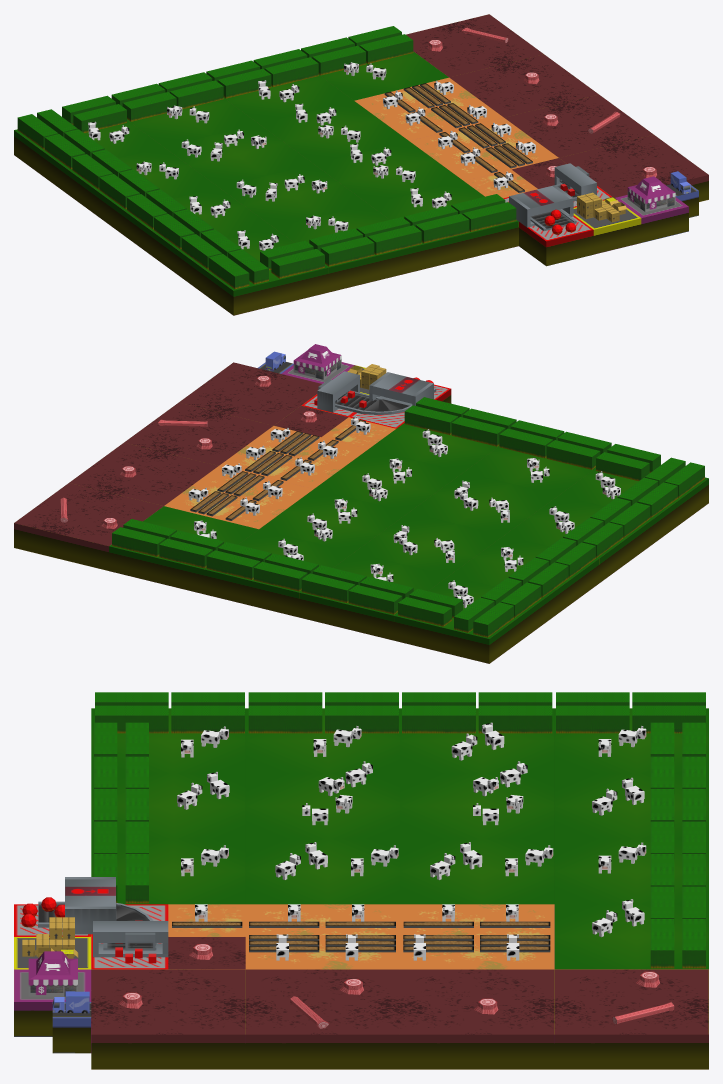
The model's file is cheesescene06.gltf.
3 renders of one model, top to bottom at view 1: azimuth 30°, elevation 25°; view 2: azimuth 150°, elevation 25°; view 3: azimuth 270°, elevation 25°, orthographic. The views are drawn at different scales.
Visible parts, largest first — view 1: bLand.019, bFarm.040, bLand.017, bLand.016, bLand.018, bFarm.043, bFarm.051, bFarm.050, bFarm.044, bFarm.041, bFarm.042, bFarm.049 (+55 smaller); view 2: bLand.018, bLand.019, bLand.016, bFarm.048, bLand.017, bFarm.050, bFarm.044, bFarm.043, bFarm.051, bFarm.047, bFarm.039, bFarm.046 (+54 smaller); view 3: bLand.016, bLand.019, bLand.017, bLand.018, bFarm.044, bFarm.050, bFarm.043, bFarm.051, bFarm.042, bFarm.046, bFarm.039, bFarm.041 (+58 smaller).
Part boxes in pixels (<box>): bLand.019: <box>449,54,598,117</box>; bFarm.040: <box>178,227,328,315</box>; bLand.017: <box>504,94,653,157</box>; bLand.016: <box>559,135,708,201</box>; bLand.018: <box>406,14,543,77</box>; bFarm.043: <box>314,141,463,204</box>; bFarm.051: <box>259,101,408,163</box>; bFarm.050: <box>164,124,313,187</box>; bFarm.044: <box>219,164,368,227</box>; bFarm.041: <box>274,204,423,292</box>; bFarm.042: <box>369,181,518,269</box>; bFarm.049: <box>69,147,218,234</box>; bLand.018: <box>14,483,163,570</box>; bLand.019: <box>69,443,218,505</box>; bLand.016: <box>179,362,321,425</box>; bFarm.048: <box>394,575,544,663</box>; bLand.017: <box>124,402,273,465</box>; bFarm.050: <box>354,512,503,575</box>; bFarm.044: <box>409,472,558,535</box>; bFarm.043: <box>314,449,463,512</box>; bFarm.051: <box>259,489,408,552</box>; bFarm.047: <box>299,552,448,640</box>; bFarm.039: <box>109,506,258,594</box>; bFarm.046: <box>204,529,353,617</box>; bLand.016: <box>91,969,245,1069</box>; bLand.019: <box>400,969,554,1069</box>; bLand.017: <box>245,969,399,1069</box>; bLand.018: <box>554,969,708,1069</box>; bFarm.044: <box>245,773,399,838</box>; bFarm.050: <box>400,773,554,838</box>; bFarm.043: <box>245,839,399,904</box>; bFarm.051: <box>400,839,554,904</box>; bFarm.042: <box>91,839,245,904</box>; bFarm.046: <box>554,839,708,904</box>; bFarm.039: <box>554,904,708,969</box>; bFarm.041: <box>91,773,245,838</box>.
Bounding box in the file's own units: 10 × 0.9425 × 9.
Materials: 149 (149 with a texture image).
